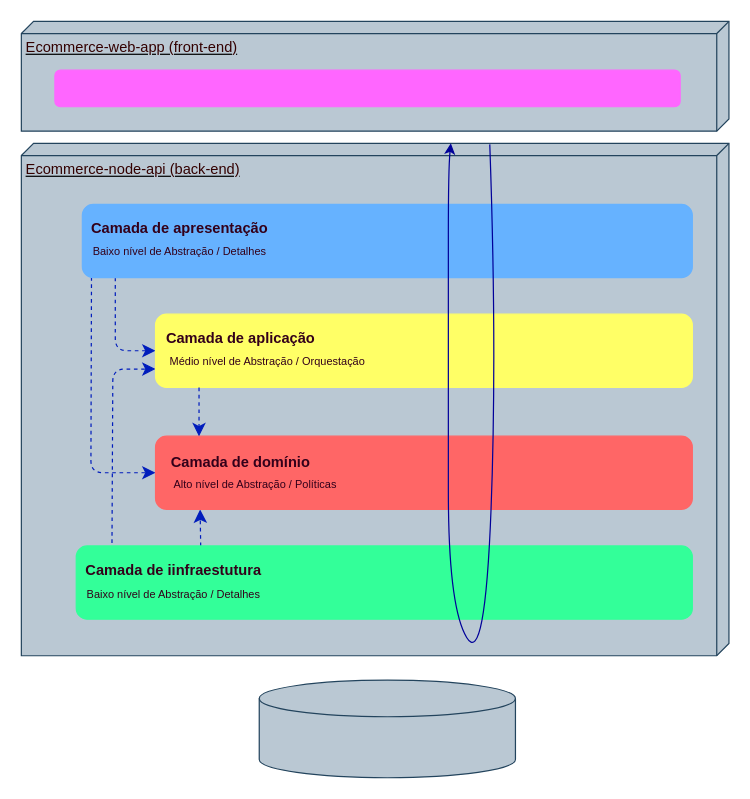
Image size: 750x799. Some labels were removed from this diagram. Here are the shapes that lost their labels. From the top down, the box of each, then its label:
(54, 69, 680, 107): Interface de usuário
(258, 679, 515, 778): Database
